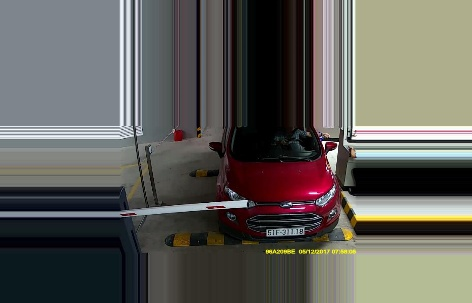plate: (267, 224, 307, 236)
